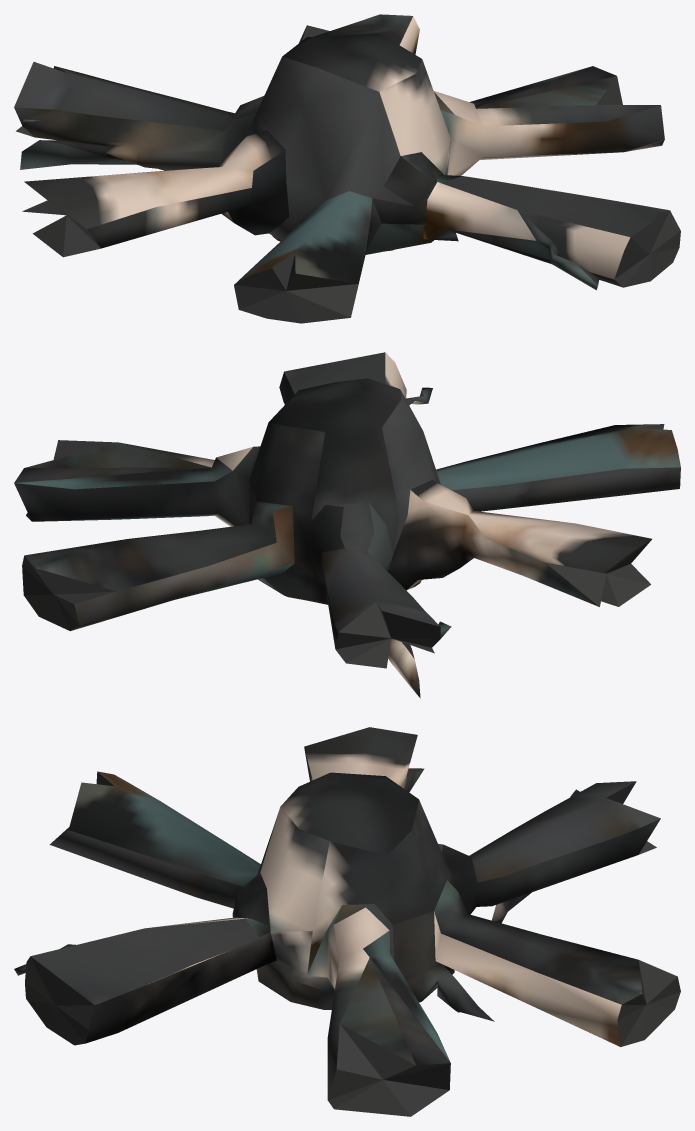
The model's file is SM_Extractor_Rotor_RL.fbx.
3 views of the same model, one above another, from view 1: azimuth 30°, elevation 25°; view 2: azimuth 150°, elevation 25°; view 3: azimuth 270°, elevation 25° (orthographic). The views are drawn at different scales.
Visible parts, largest first — view 1: SM_Extractor_Rotor_RL; view 2: SM_Extractor_Rotor_RL; view 3: SM_Extractor_Rotor_RL.
Part boxes in pixels (bbox=[...]): SM_Extractor_Rotor_RL: bbox=[14, 14, 680, 323]; SM_Extractor_Rotor_RL: bbox=[14, 352, 680, 698]; SM_Extractor_Rotor_RL: bbox=[14, 727, 680, 1116].
Size of the model in its own units: 0.4395 by 0.128 by 0.4176.
